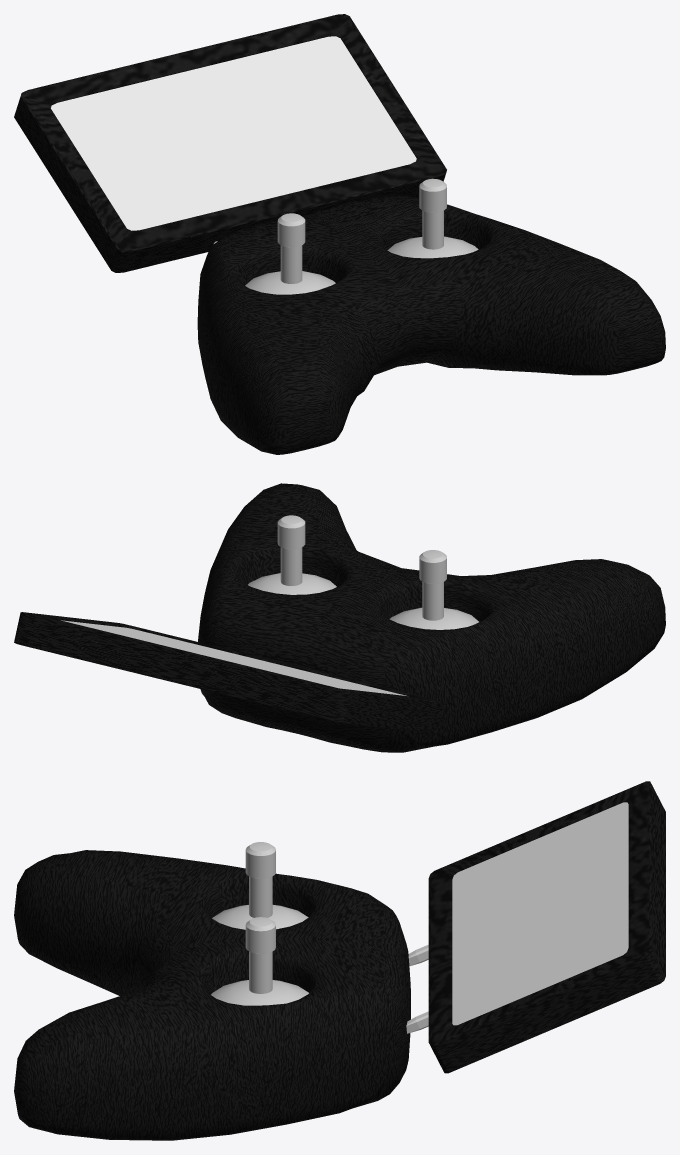
File: Joystick.fbx
The picture shows the model from 3 angles, top to bottom: view 1: azimuth 30°, elevation 25°; view 2: azimuth 150°, elevation 25°; view 3: azimuth 270°, elevation 25°; orthographic projection. The views are drawn at different scales.
Visible parts, largest first — view 1: JoystickMain, Screen, ScreenBoarders, Stiki; view 2: JoystickMain, ScreenBoarders, Stiki, Screen; view 3: JoystickMain, Screen, ScreenBoarders, Stiki, Palo4ki.
Part boxes in pixels (x1,y1,x2,y2): JoystickMain: [197, 196, 665, 454]; Screen: [51, 36, 416, 230]; ScreenBoarders: [14, 14, 446, 272]; Stiki: [245, 178, 478, 294]; JoystickMain: [198, 483, 665, 752]; ScreenBoarders: [14, 612, 446, 733]; Stiki: [248, 515, 478, 629]; Screen: [61, 620, 406, 695]; JoystickMain: [14, 850, 410, 1140]; Screen: [452, 802, 628, 1025]; ScreenBoarders: [428, 781, 665, 1073]; Stiki: [211, 842, 308, 1005]; Palo4ki: [406, 944, 428, 1033].
Size of the model in its own units: 463 by 190 by 601.
